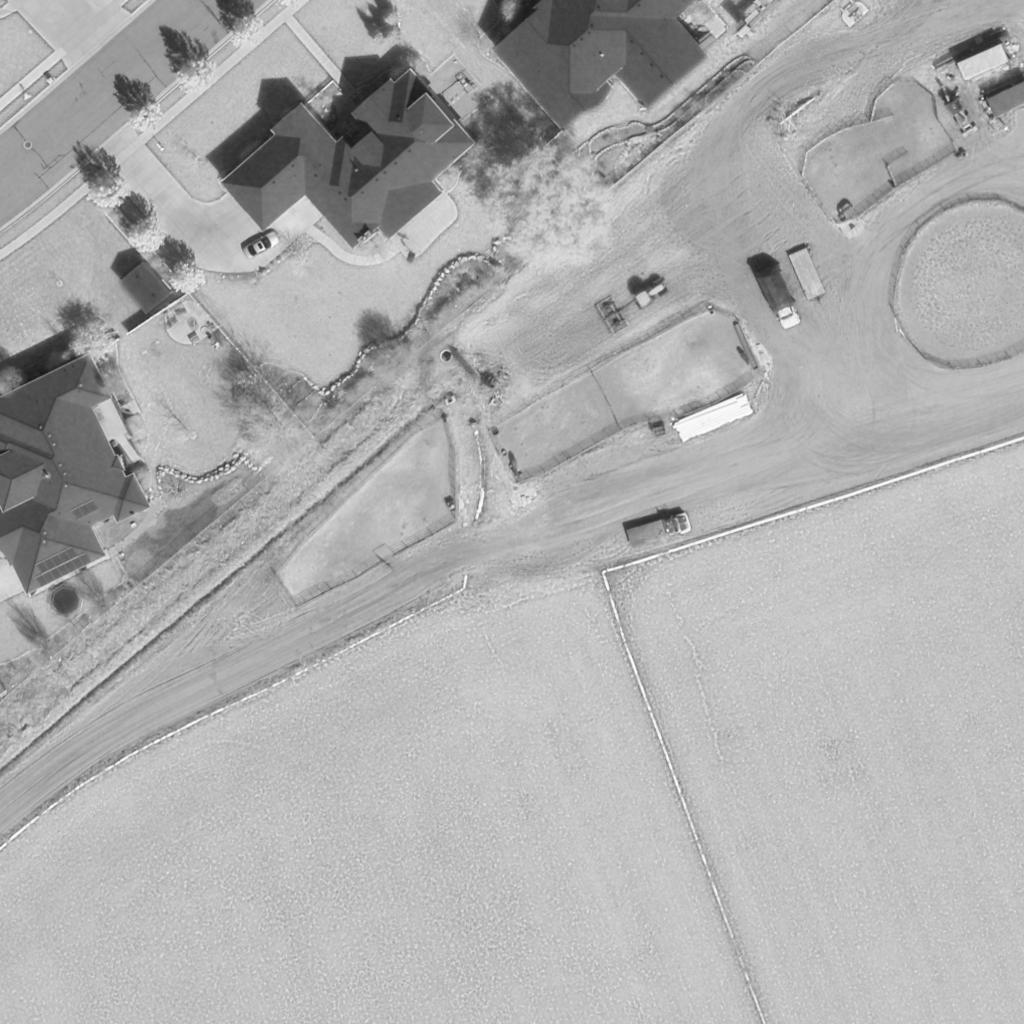vehicle: (753, 266, 805, 332), (624, 513, 694, 547), (630, 278, 674, 314), (236, 230, 282, 264)
